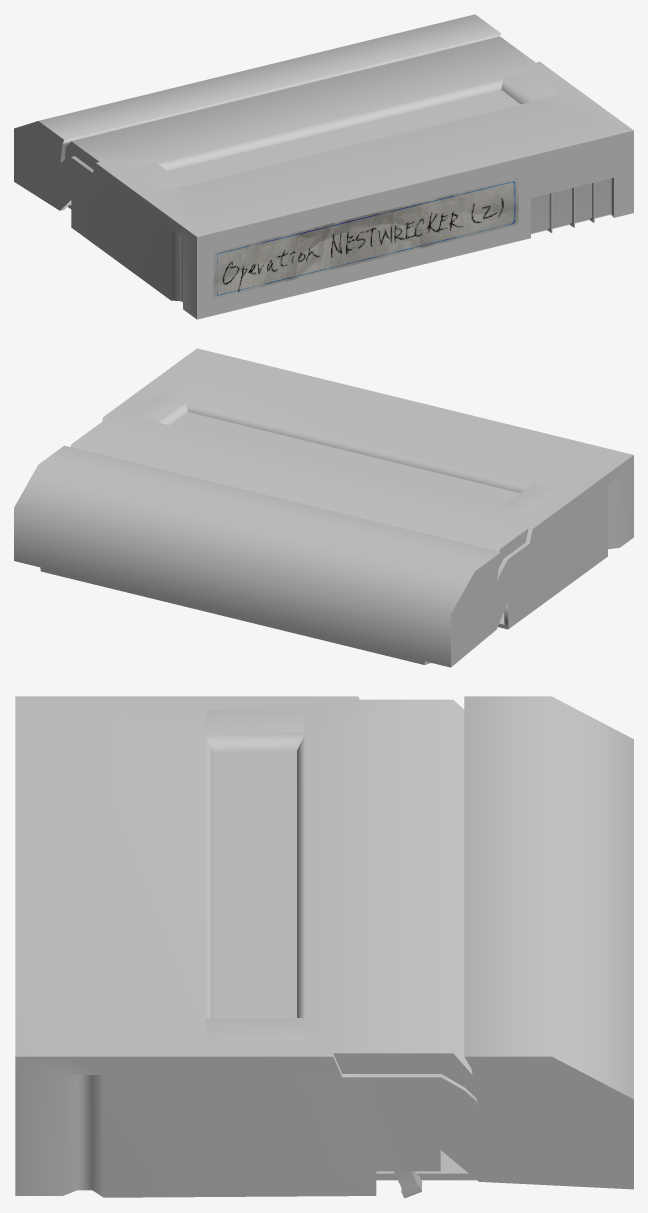
File: 405_VideoTape.fbx
3 renders of one model, top to bottom at view 1: azimuth 30°, elevation 25°; view 2: azimuth 150°, elevation 25°; view 3: azimuth 270°, elevation 25°, orthographic. The views are drawn at different scales.
Visible parts, largest first — view 1: LOD_1_Group_1_Sub_1__sm73_405_VideoTape01A_A_Mat, LOD_1_Group_2_Sub_1__sm72_200_PhotoFilmA01A_A_Mat; view 2: LOD_1_Group_1_Sub_1__sm73_405_VideoTape01A_A_Mat; view 3: LOD_1_Group_1_Sub_1__sm73_405_VideoTape01A_A_Mat.
Boxes of the visible parts, x1,y1,x2,y2 form: LOD_1_Group_1_Sub_1__sm73_405_VideoTape01A_A_Mat: (14,14,633,319); LOD_1_Group_2_Sub_1__sm72_200_PhotoFilmA01A_A_Mat: (213,178,518,298); LOD_1_Group_1_Sub_1__sm73_405_VideoTape01A_A_Mat: (14,348,633,667); LOD_1_Group_1_Sub_1__sm73_405_VideoTape01A_A_Mat: (15,696,633,1198).
Bounding box in the file's own units: 0.0664 × 0.0125 × 0.0481.
